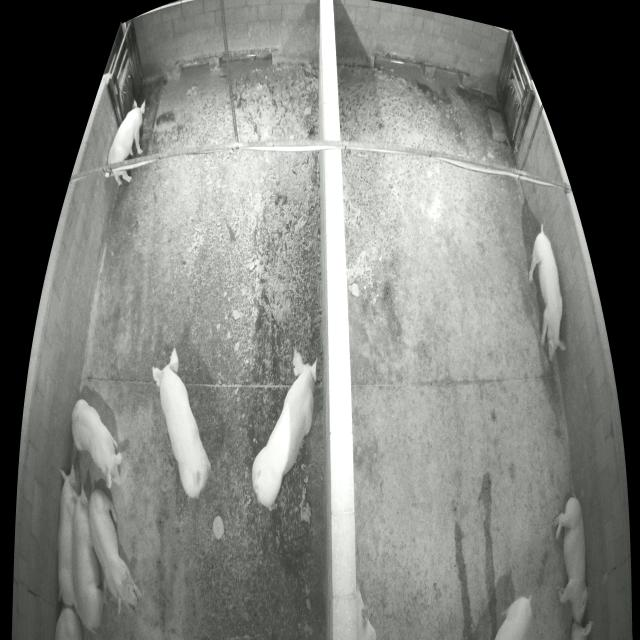pig: (252, 348, 317, 510), (153, 348, 210, 499), (89, 490, 141, 613), (72, 485, 107, 632), (529, 225, 566, 360), (72, 399, 122, 489), (555, 496, 588, 623), (108, 101, 146, 184), (58, 464, 79, 606), (495, 594, 532, 639), (356, 583, 376, 638), (56, 606, 82, 639)
